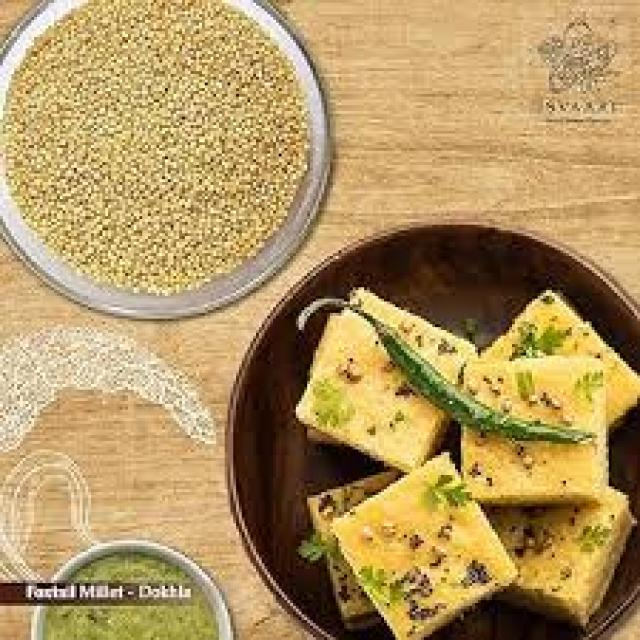DHOKLA: (303, 286, 637, 637)
